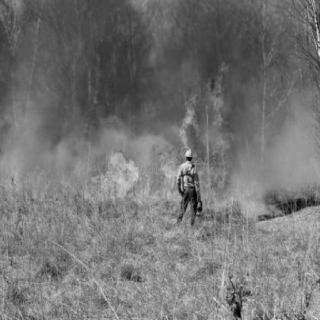Fire: (8, 54, 235, 222)
other: (181, 145, 197, 189)
